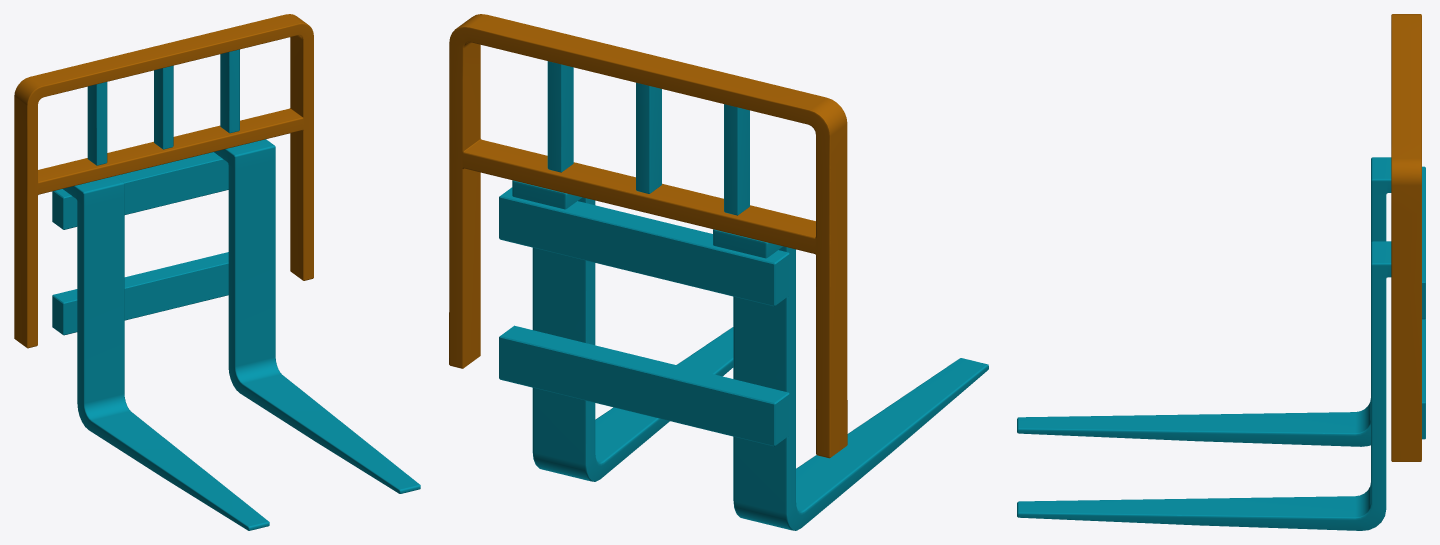
The model's file is SM_LargerForks.fbx.
3 views of the same model, side by side, from view 1: azimuth 30°, elevation 25°; view 2: azimuth 150°, elevation 25°; view 3: azimuth 270°, elevation 25° (orthographic). The views are drawn at different scales.
Parts seen in each view (by area): view 1: FL_NewForks; view 2: FL_NewForks; view 3: FL_NewForks.
Part boxes in pixels (bbox=[...]): FL_NewForks: bbox=[14, 14, 420, 530]; FL_NewForks: bbox=[449, 14, 988, 530]; FL_NewForks: bbox=[1017, 14, 1425, 530].
Size of the model in its own units: 137 by 156 by 148.
